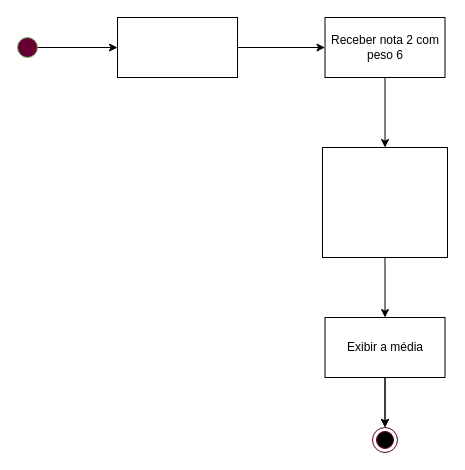
Some shapes in this 465 by 470 pixel diagram are drawn without their labels. Here are the shapes that lost their labels. From the top down, the centre of each, then its label:
At (177,47): "Receber nota 1 com peso 4".
At (385,202): "Calcular a média entre nota 1 e nota 2 (nota 1*4 + nota 2*6) /10".
